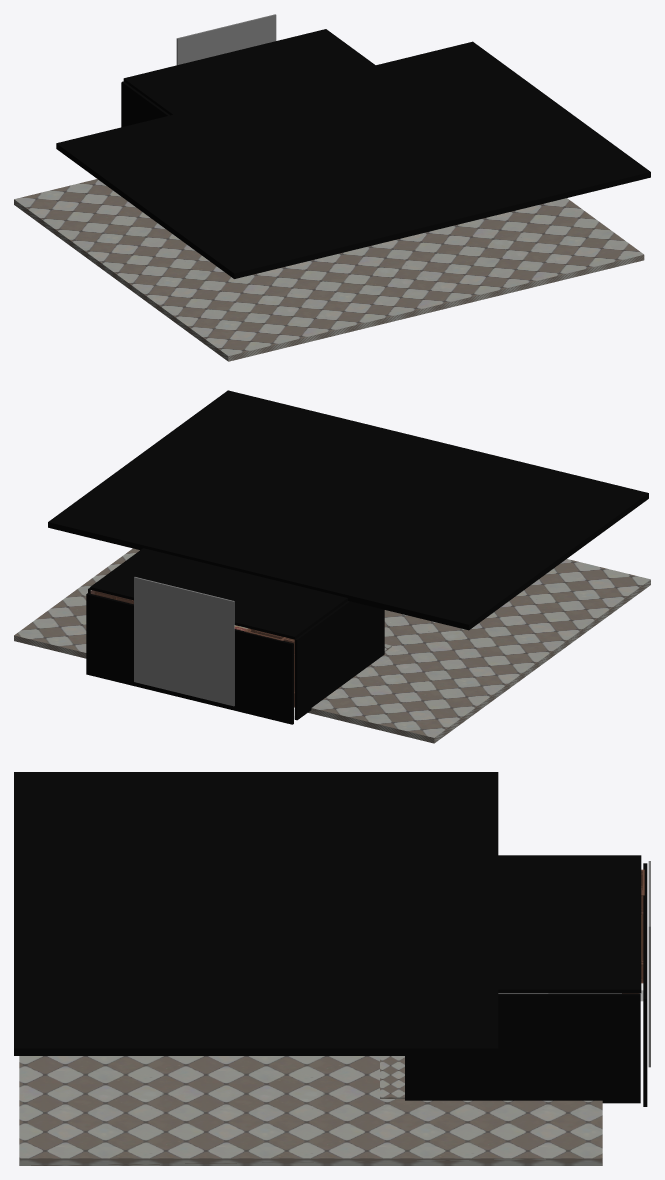
The model's file is Maqueta.obj.
3 renders of one model, top to bottom at view 1: azimuth 30°, elevation 25°; view 2: azimuth 150°, elevation 25°; view 3: azimuth 270°, elevation 25°, orthographic. The views are drawn at different scales.
Parts seen in each view (by area): view 1: pCube37, pCube36, pCube28, pCube38, pCube26; view 2: pCube37, pCube36, pCube38, pCube35, pCube28, pCube26; view 3: pCube37, pCube36, pCube28, pCube25, pCube35, pCube24, pCube38.
Boxes of the visible parts, left/top/right/bottom form: pCube37: left=56, top=41, right=650, bottom=278; pCube36: left=14, top=179, right=644, bottom=361; pCube28: left=123, top=29, right=375, bottom=115; pCube38: left=176, top=14, right=276, bottom=65; pCube26: left=121, top=81, right=169, bottom=126; pCube37: left=48, top=390, right=648, bottom=630; pCube36: left=14, top=548, right=650, bottom=743; pCube38: left=134, top=577, right=234, bottom=706; pCube35: left=86, top=593, right=293, bottom=724; pCube28: left=90, top=548, right=347, bottom=639; pCube26: left=294, top=601, right=384, bottom=720; pCube37: left=14, top=772, right=498, bottom=1055; pCube36: left=19, top=1056, right=602, bottom=1165; pCube28: left=498, top=855, right=641, bottom=993; pCube25: left=405, top=993, right=640, bottom=1103; pCube35: left=643, top=863, right=647, bottom=1106; pCube24: left=380, top=1056, right=404, bottom=1098; pCube38: left=648, top=861, right=650, bottom=1067.
Bounding box in the file's own units: 24.8 × 6.16 × 23.92.
